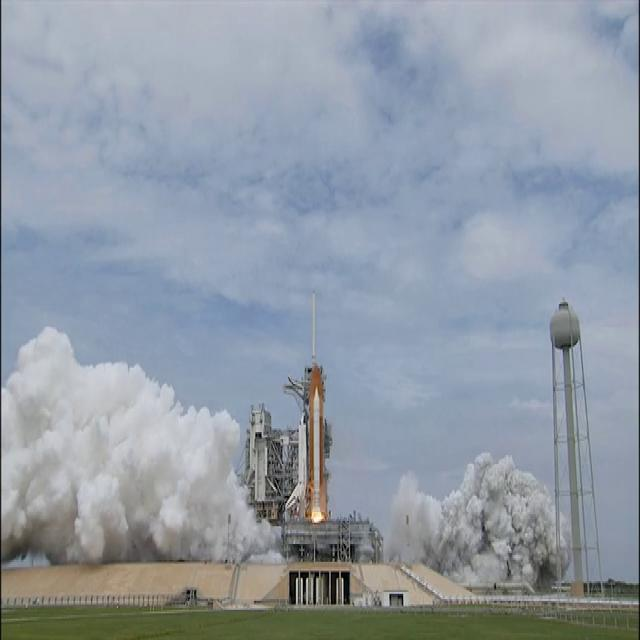fire: (310, 502, 326, 525)
smoke: (98, 492, 164, 560), (50, 475, 100, 561), (6, 459, 46, 550), (24, 340, 70, 406), (168, 512, 230, 556), (115, 366, 152, 434), (190, 414, 235, 468), (78, 430, 116, 488), (196, 474, 236, 528), (2, 378, 31, 451), (36, 407, 72, 464), (73, 371, 111, 421), (160, 451, 190, 512), (468, 472, 502, 522), (520, 536, 556, 582), (124, 446, 154, 501), (438, 536, 474, 578), (158, 391, 185, 446), (396, 473, 424, 519), (408, 520, 436, 566), (484, 532, 512, 578), (508, 469, 530, 526), (240, 510, 264, 554), (382, 518, 404, 563), (450, 492, 470, 528), (424, 493, 445, 522), (532, 498, 552, 528), (266, 525, 282, 562)
